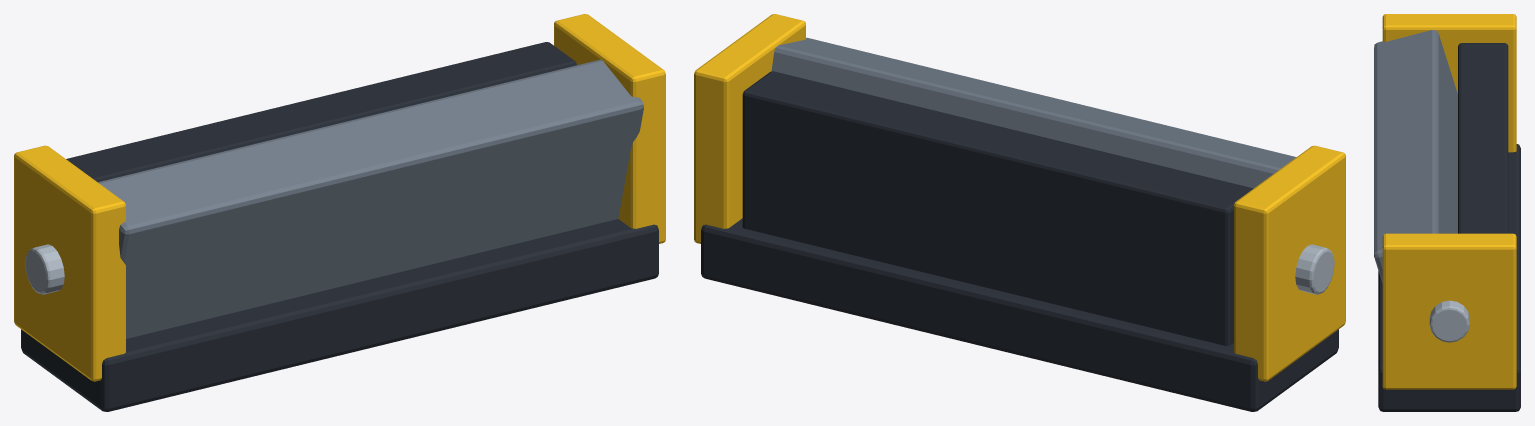
Rendered from perimeter_blast_barrier.glb.
3 renders of one model, left to right at view 1: azimuth 30°, elevation 25°; view 2: azimuth 150°, elevation 25°; view 3: azimuth 270°, elevation 25°, orthographic. The views are drawn at different scales.
Visible parts, largest first — view 1: Sloped_Armor_Front, Barrier_Base, Bulkhead_-1.55, Spine_Rear, Bulkhead_1.55, Coupling_-1.55; view 2: Spine_Rear, Barrier_Base, Sloped_Armor_Front, Bulkhead_-1.55, Bulkhead_1.55, Coupling_-1.55; view 3: Bulkhead_1.55, Sloped_Armor_Front, Spine_Rear, Barrier_Base, Bulkhead_-1.55, Coupling_1.55.
Part boxes in pixels (x1=…): Sloped_Armor_Front: x1=98, y1=59, x2=643, y2=338; Barrier_Base: x1=21, y1=219, x2=658, y2=411; Bulkhead_-1.55: x1=14, y1=145, x2=125, y2=381; Spine_Rear: x1=66, y1=42, x2=576, y2=182; Bulkhead_1.55: x1=554, y1=14, x2=665, y2=243; Coupling_-1.55: x1=25, y1=244, x2=64, y2=294; Spine_Rear: x1=742, y1=71, x2=1253, y2=345; Barrier_Base: x1=701, y1=218, x2=1338, y2=411; Sloped_Armor_Front: x1=771, y1=37, x2=1296, y2=188; Bulkhead_-1.55: x1=1234, y1=145, x2=1345, y2=381; Bulkhead_1.55: x1=694, y1=14, x2=805, y2=243; Coupling_-1.55: x1=1295, y1=244, x2=1334, y2=294; Bulkhead_1.55: x1=1382, y1=233, x2=1516, y2=389; Sloped_Armor_Front: x1=1374, y1=30, x2=1457, y2=282; Spine_Rear: x1=1458, y1=43, x2=1508, y2=233; Barrier_Base: x1=1378, y1=144, x2=1520, y2=411; Bulkhead_-1.55: x1=1382, y1=14, x2=1516, y2=152; Coupling_1.55: x1=1429, y1=300, x2=1469, y2=342.
Bounding box in the file's own units: 3.49 × 1.12 × 0.8761.
